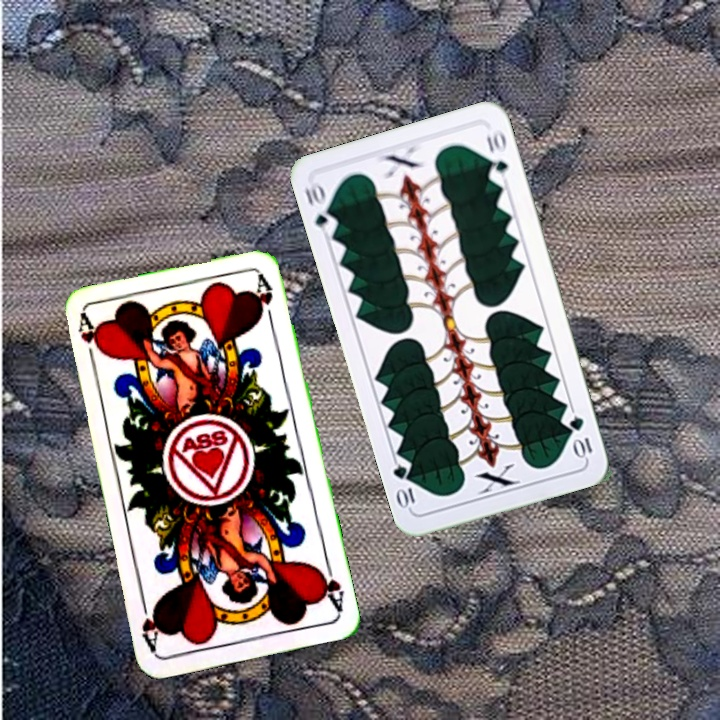G10: (301, 177, 340, 237), (565, 412, 595, 461)
HA: (313, 555, 347, 614), (74, 311, 104, 370)
